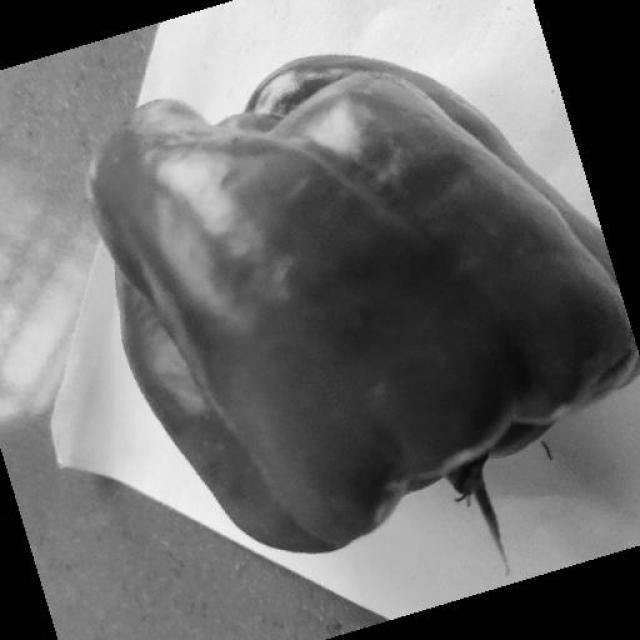Stale_Capsicum: (106, 66, 637, 570)
